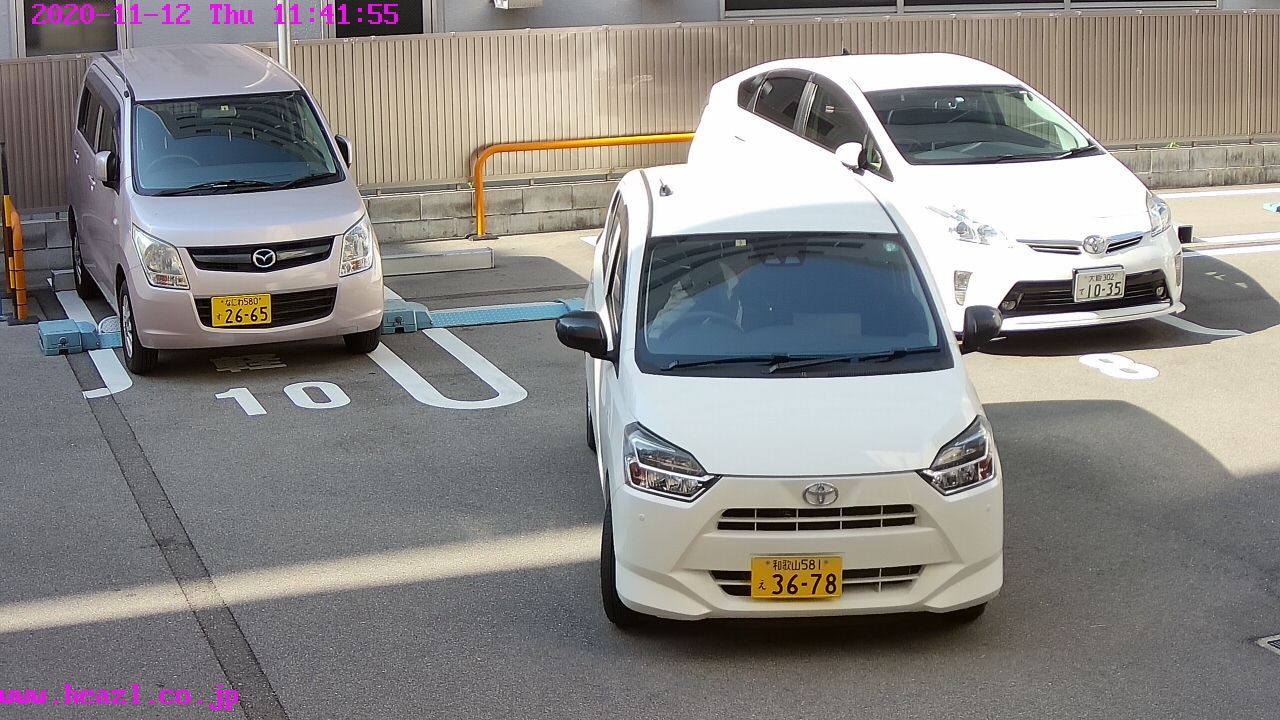number_plate: (750, 553, 842, 601), (212, 292, 273, 326), (1076, 269, 1127, 298)
